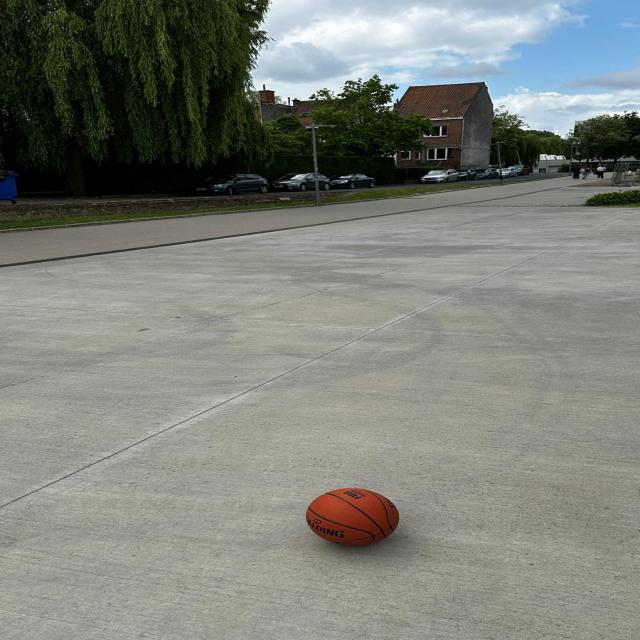Basketball: (307, 489, 399, 545)
